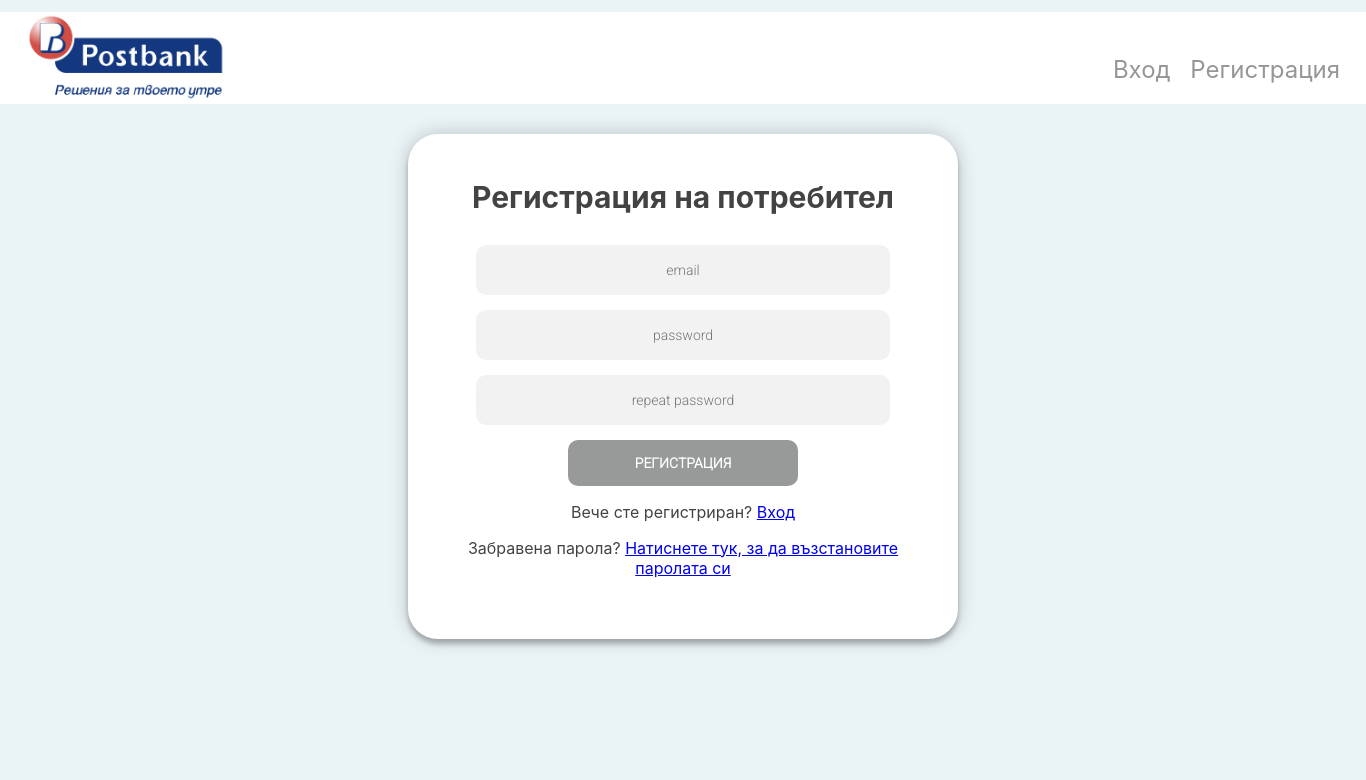
Test: Check register form submit with email in bad format
This screenshot has width=1366, height=780.
# Change the Email
Type "ndimov@postbank.b" into the field with placeholder "email" at (683, 270), box [476,245,890,295]
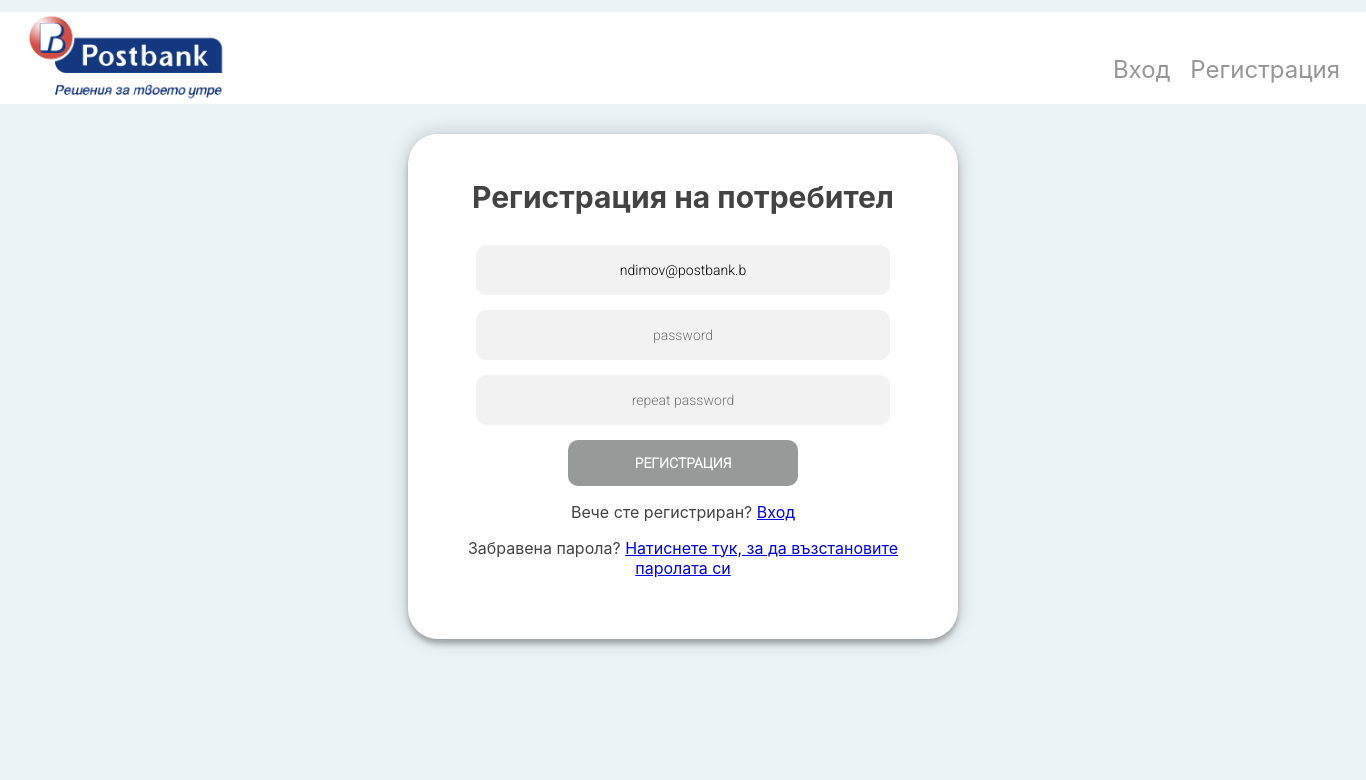
# Change the password
Type "123" into the password field with placeholder "password" at (683, 335), box [476,310,890,360]
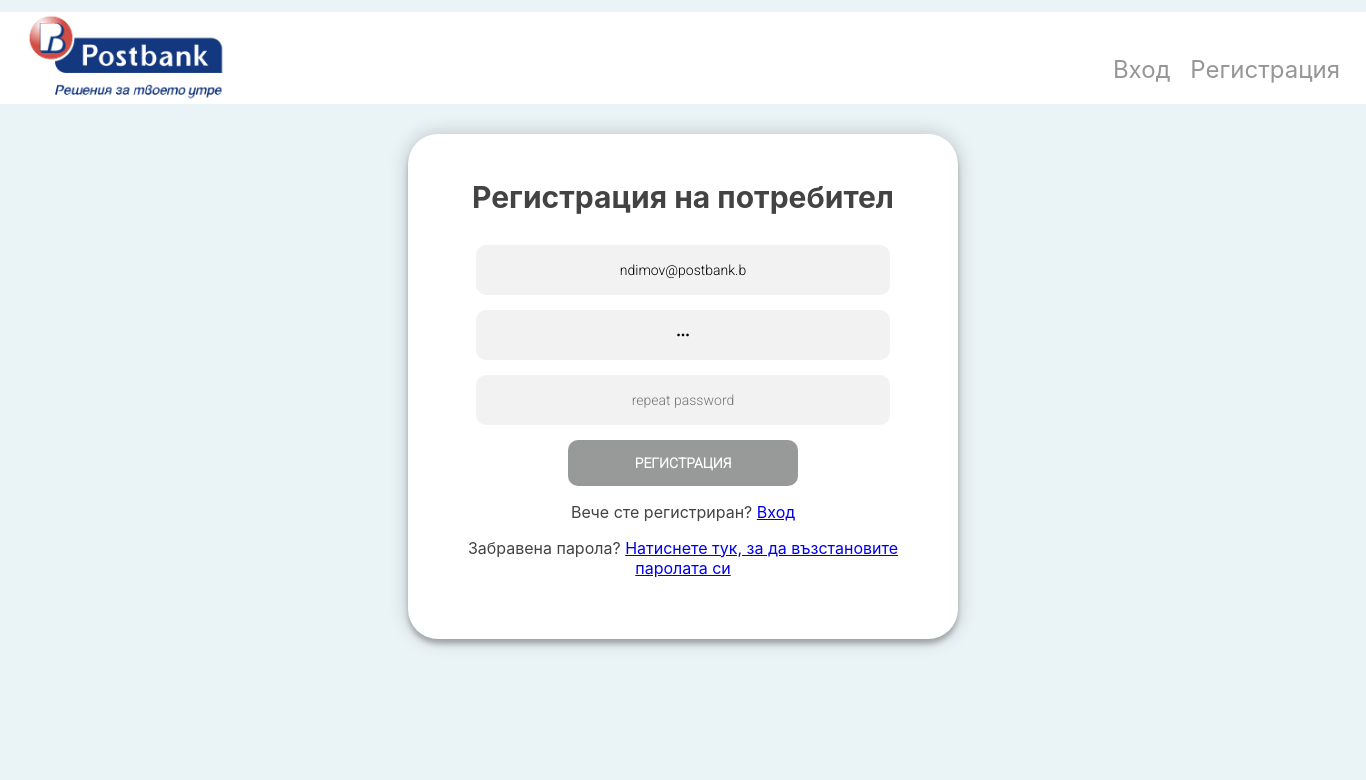
# Change the repeat paasword
Type "123" into the password field with placeholder "repeat password" at (683, 400), box [476,375,890,425]
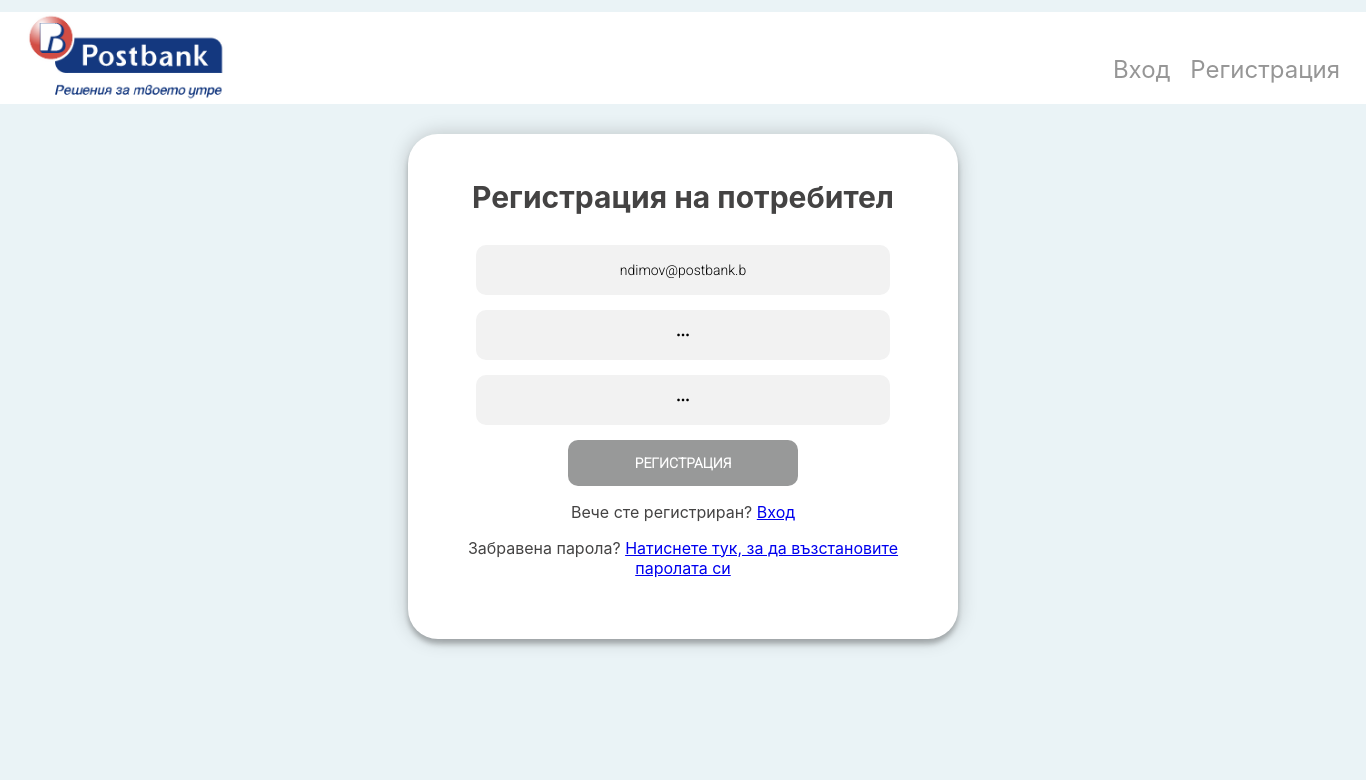
Click the button "Регистрация" at (683, 463), box [568,440,798,486]
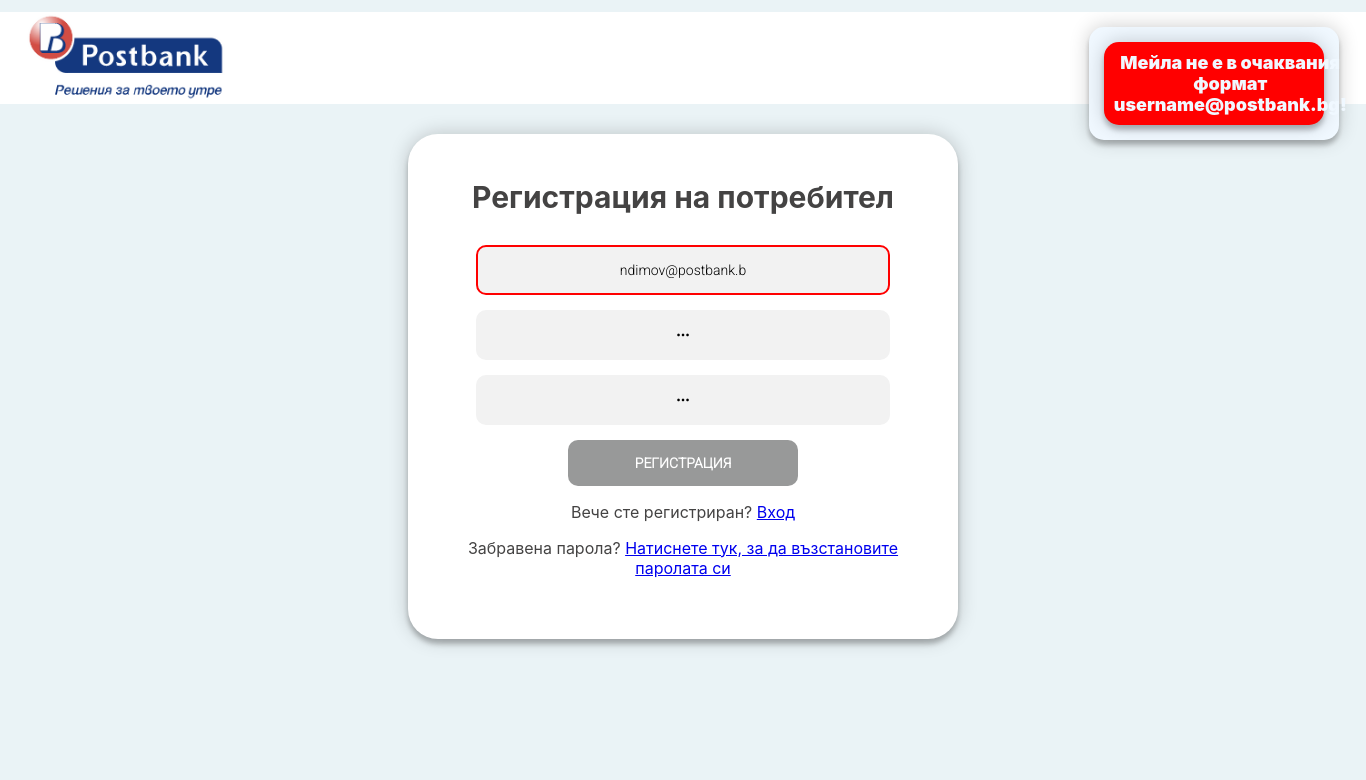
Expected: the text "Мейла не е в очаквания формат username@postbank.bg!" is shown, [1114,52,1347,115]
